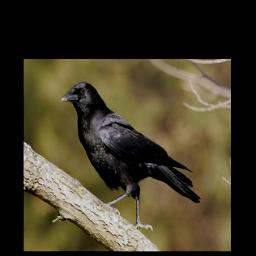Crow: (58, 80, 201, 234)
